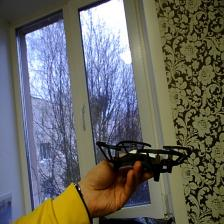drone: (96, 128, 194, 188)
